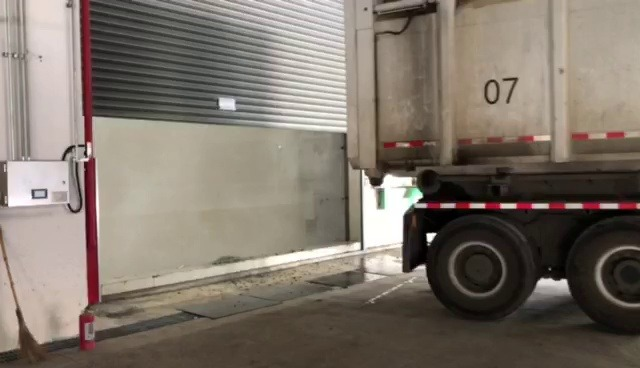dust: (102, 139, 322, 248)
truck: (332, 0, 640, 334)
